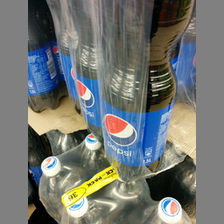soda: (100, 1, 195, 182), (70, 1, 103, 140), (28, 1, 65, 113)
